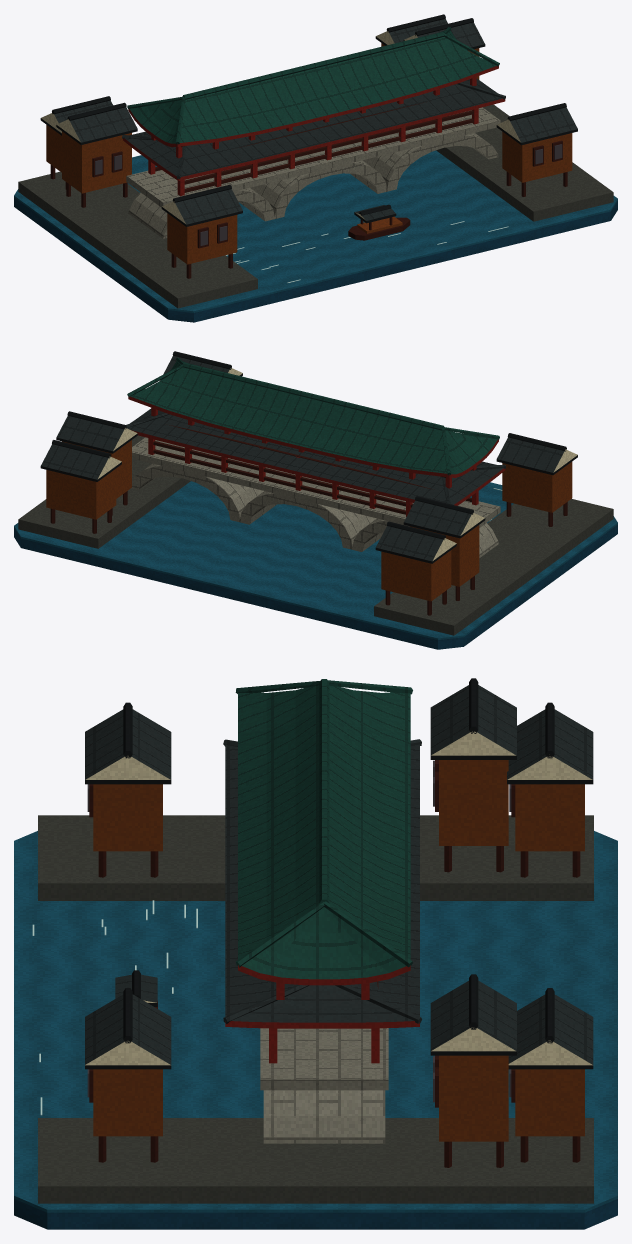
Rendered from fenghuang.glb.
The picture shows the model from 3 angles, top to bottom: view 1: azimuth 30°, elevation 25°; view 2: azimuth 150°, elevation 25°; view 3: azimuth 270°, elevation 25°; orthographic projection. The views are drawn at different scales.
Parts seen in each view (by area): view 1: 凤凰古城; view 2: 凤凰古城; view 3: 凤凰古城.
Part boxes in pixels (box(x1,y1,x2,y2)): 凤凰古城: box(14, 14, 617, 322); 凤凰古城: box(14, 351, 617, 649); 凤凰古城: box(14, 678, 617, 1229).
Bounding box in the file's own units: 10.8 × 3.27 × 7.2.
Materials: 13 (11 with a texture image).
